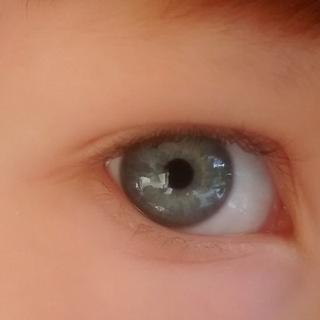pupil: (162, 157, 194, 189)
